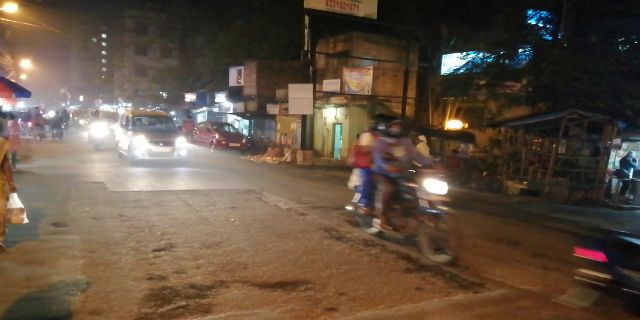Car: (122, 109, 195, 169)
Motorbike: (346, 110, 464, 262)
